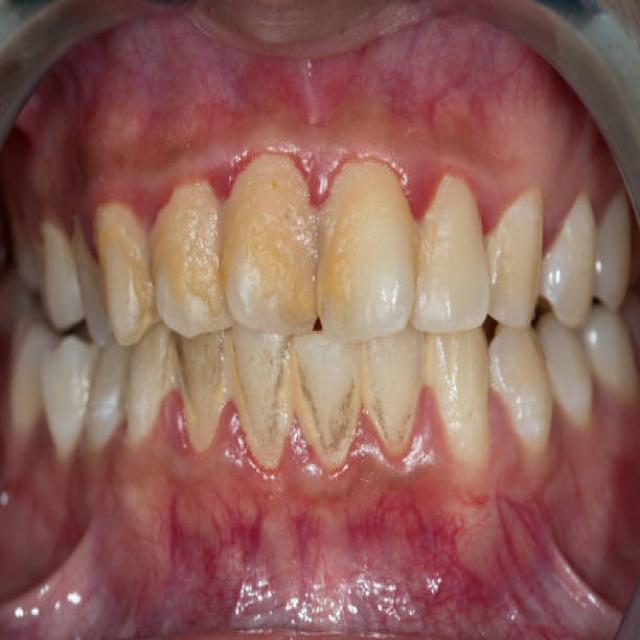Gingivitis: (150, 497, 556, 631), (299, 138, 336, 207), (402, 159, 430, 219), (205, 156, 239, 194)
